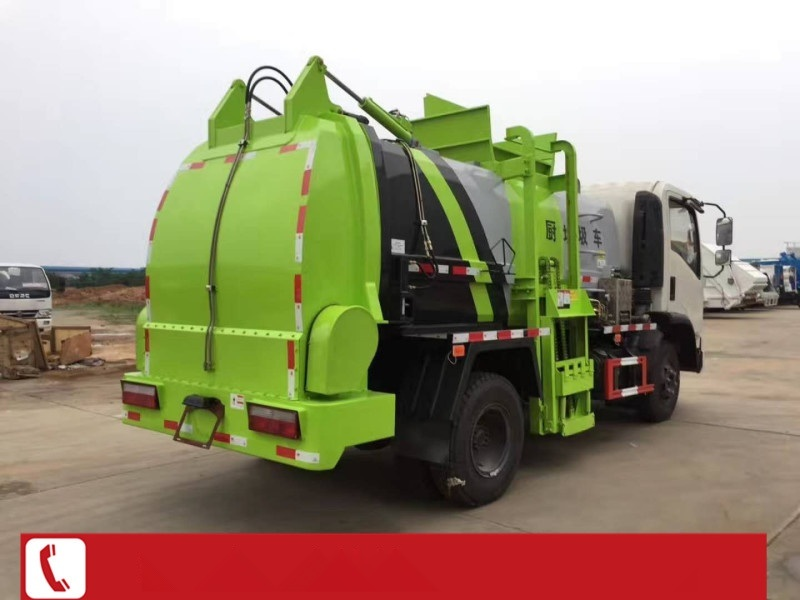garbagetruck: (124, 54, 583, 392)
